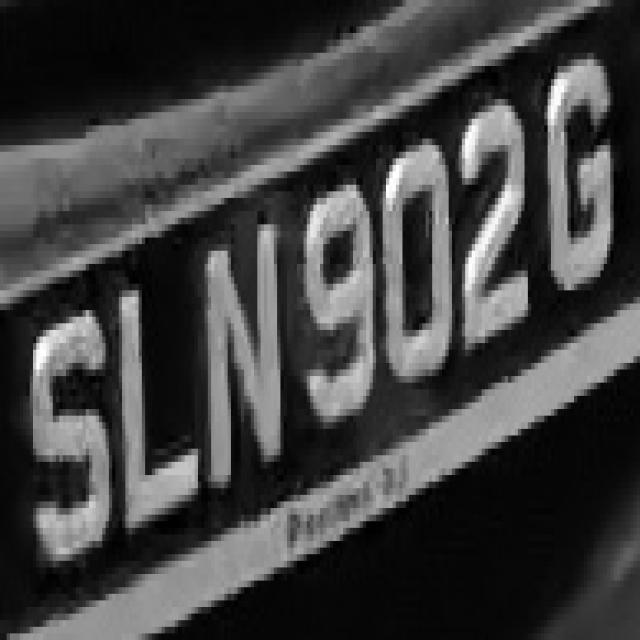0: (379, 132, 462, 416)
2: (445, 92, 528, 383)
9: (297, 165, 392, 455)
G: (534, 40, 614, 323)
L: (109, 251, 208, 528)
N: (184, 211, 294, 502)
S: (16, 284, 109, 600)
